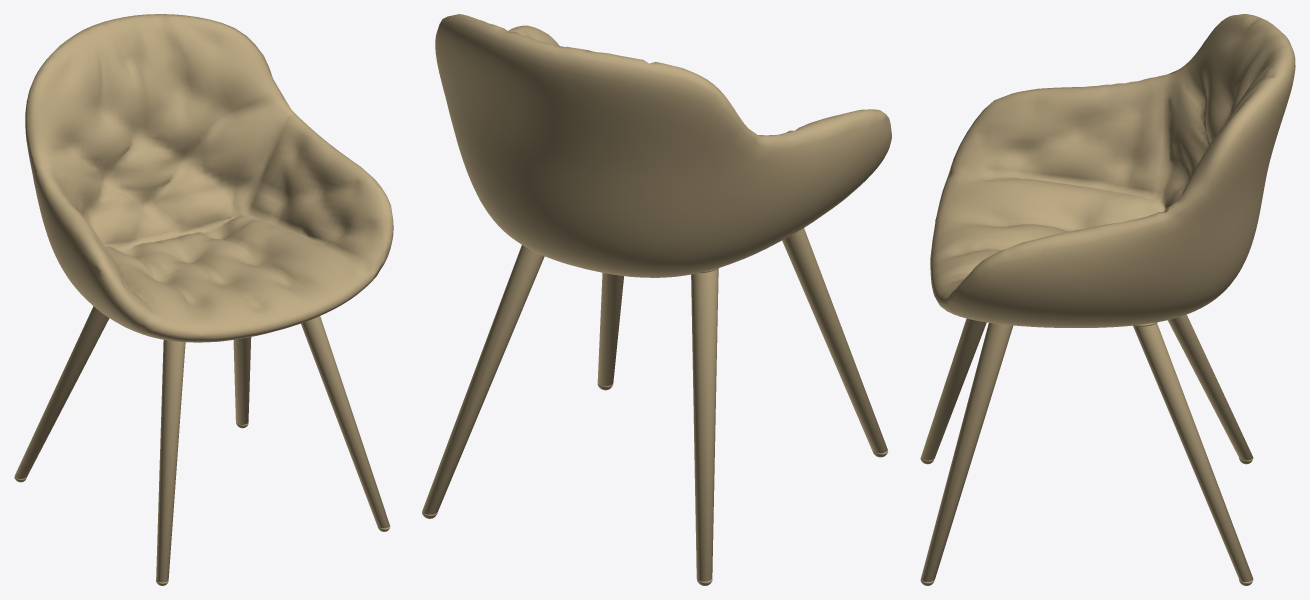
The model's file is chair_3.fbx.
3 views of the same model, side by side, from view 1: azimuth 30°, elevation 25°; view 2: azimuth 150°, elevation 25°; view 3: azimuth 270°, elevation 25° (orthographic). The views are drawn at different scales.
Visible parts, largest first — view 1: chair; view 2: chair; view 3: chair.
Part boxes in pixels (x1,y1,x2,y2): chair: [14, 14, 393, 585]; chair: [422, 14, 891, 585]; chair: [920, 14, 1295, 585].
Bounding box in the file's own units: 58.18 × 79.82 × 57.21.
